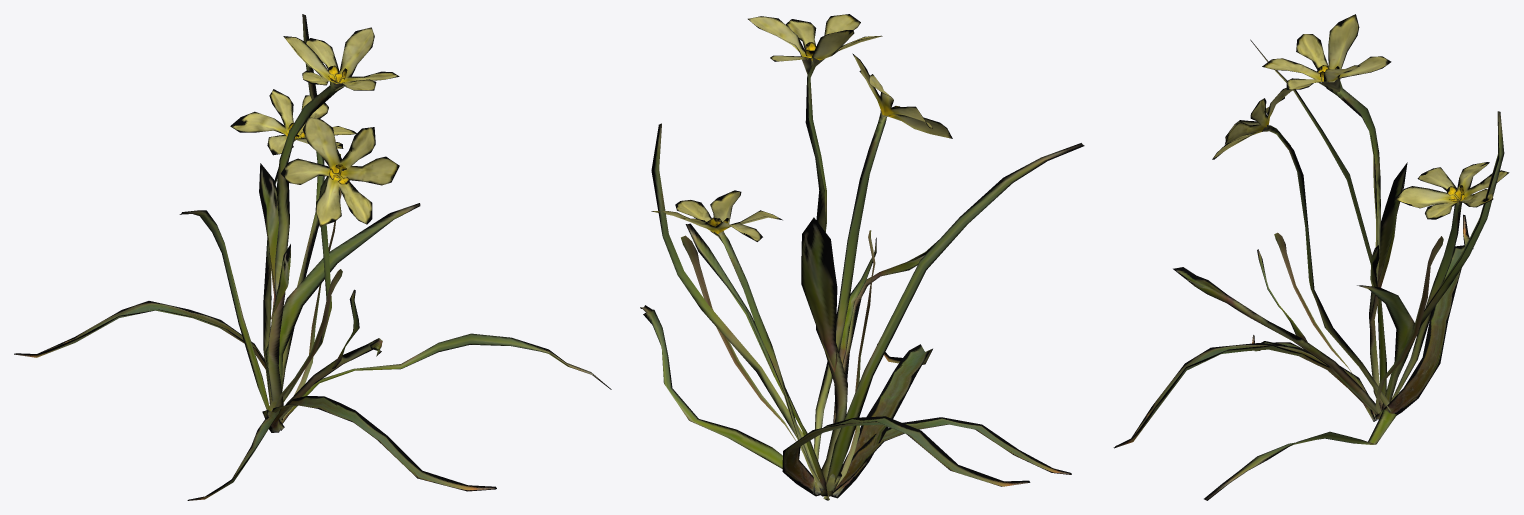
File: ph-blume-empodium-c.glb
3 views of the same model, side by side, from view 1: azimuth 30°, elevation 25°; view 2: azimuth 150°, elevation 25°; view 3: azimuth 270°, elevation 25° (orthographic). The views are drawn at different scales.
Parts seen in each view (by area): view 1: flower_empodium_c_LOD0; view 2: flower_empodium_c_LOD0; view 3: flower_empodium_c_LOD0.
Part boxes in pixels (x1,y1,x2,y2): flower_empodium_c_LOD0: [14, 14, 611, 500]; flower_empodium_c_LOD0: [640, 14, 1084, 500]; flower_empodium_c_LOD0: [1113, 14, 1509, 500].
Bounding box in the file's own units: 0.2169 × 0.1786 × 0.1579.
1 material, 1 textured.
